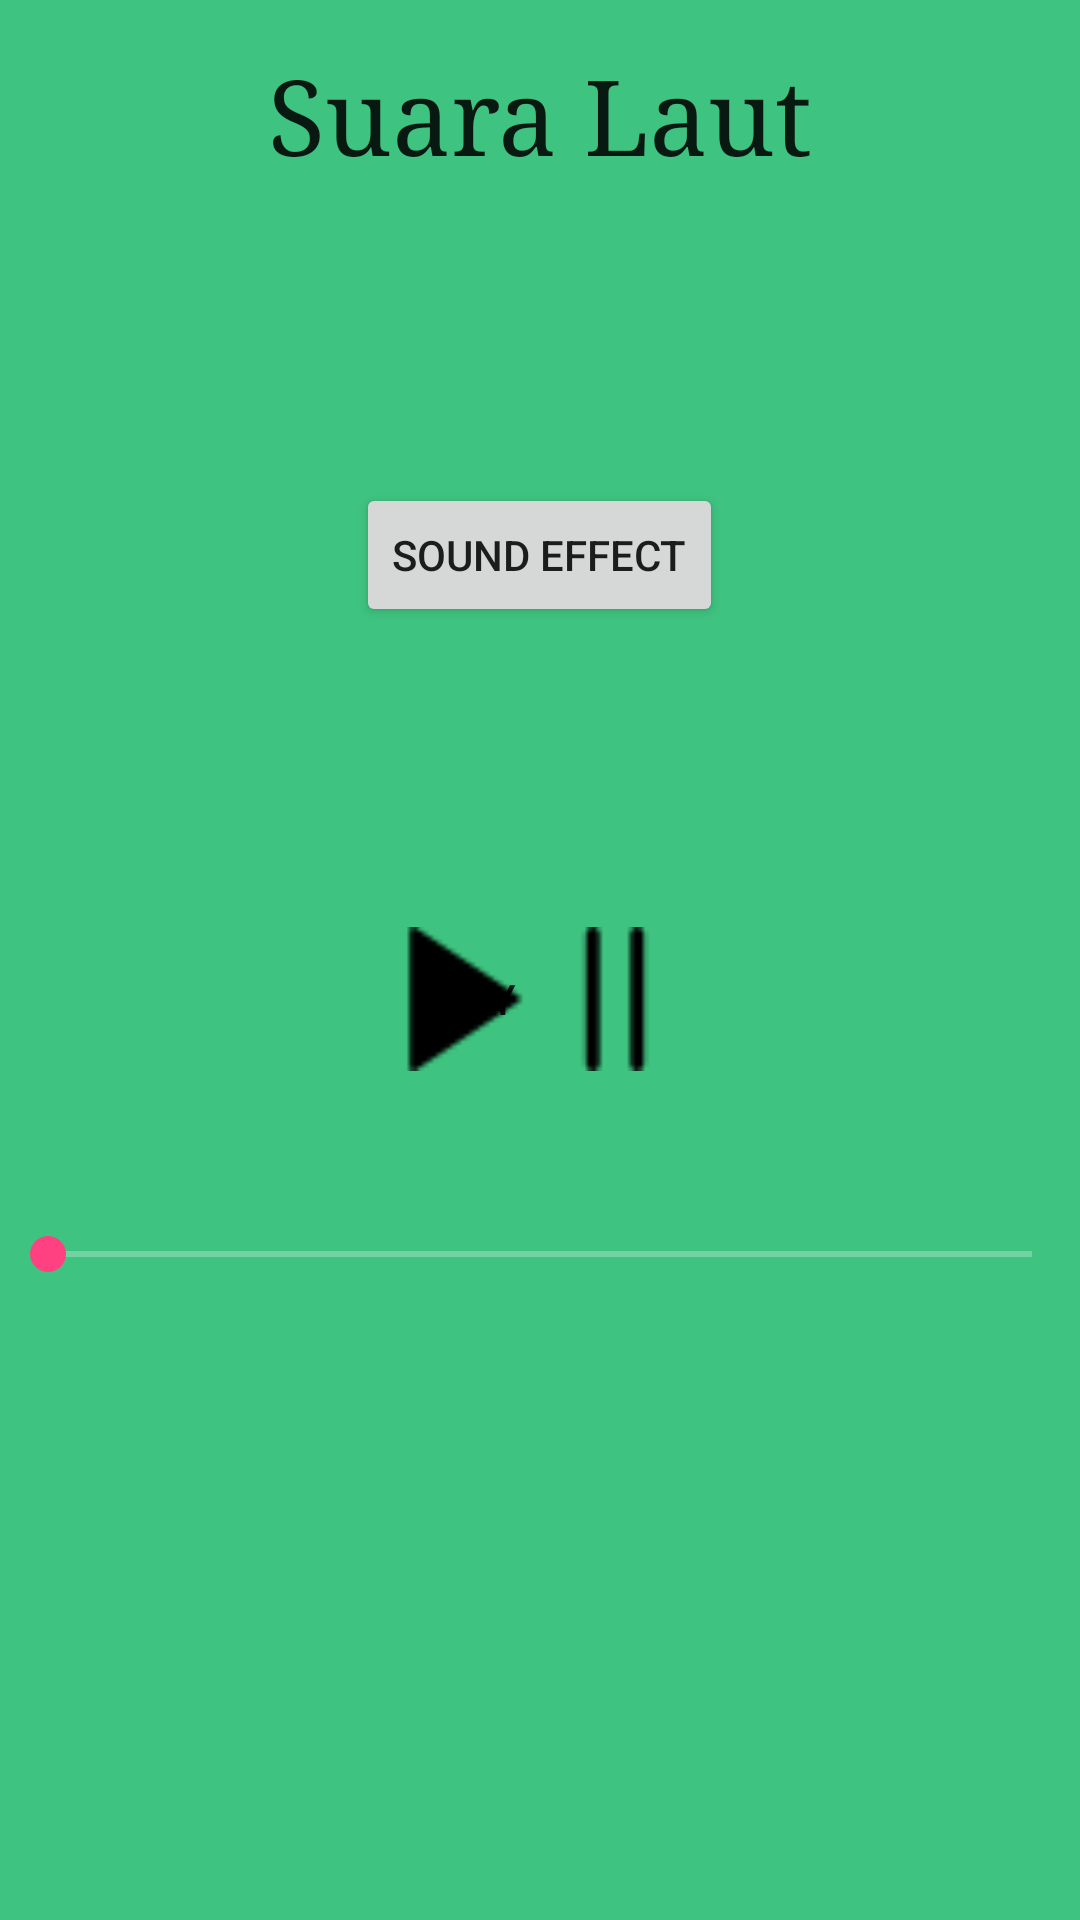

Screen size 1080px x 1920px. Icon name, then its box in pixels as (x1, y1, x2, y2):
pause: (583, 927, 647, 1071)
